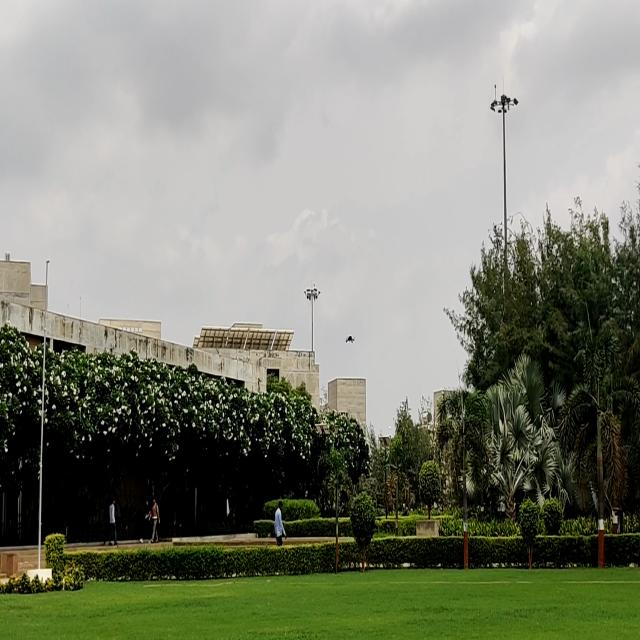drone: (343, 333, 358, 343)
